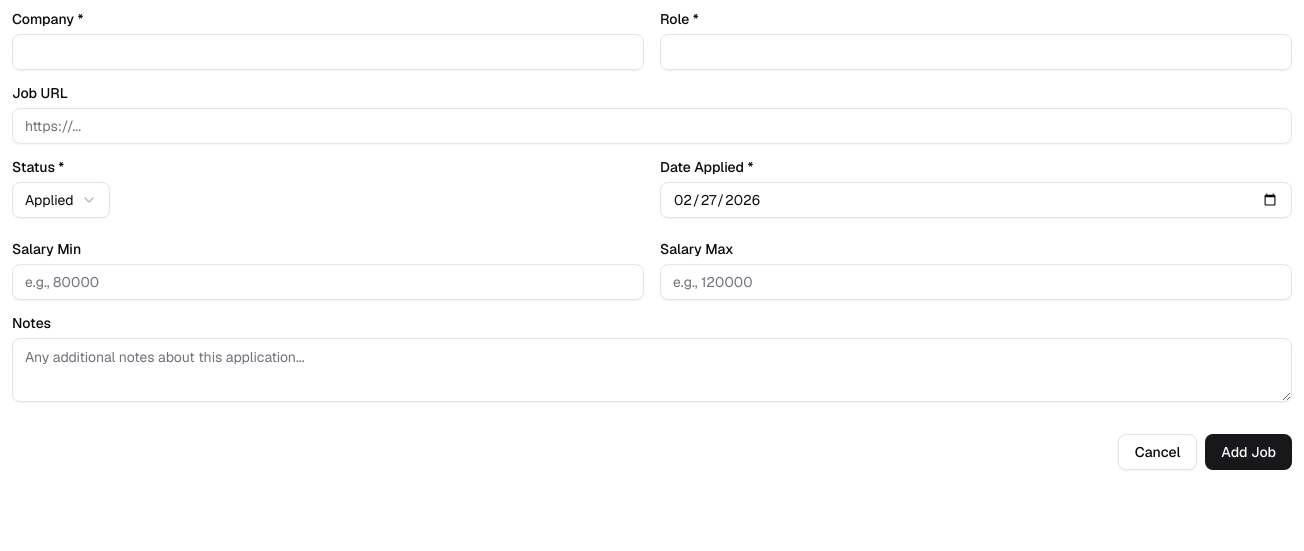
JobForm › should show URL and salary validation errors together
Type "not-a-url" into the field labelled "Job URL" at [652, 126], box x1=12 y1=108 x2=1292 y2=144
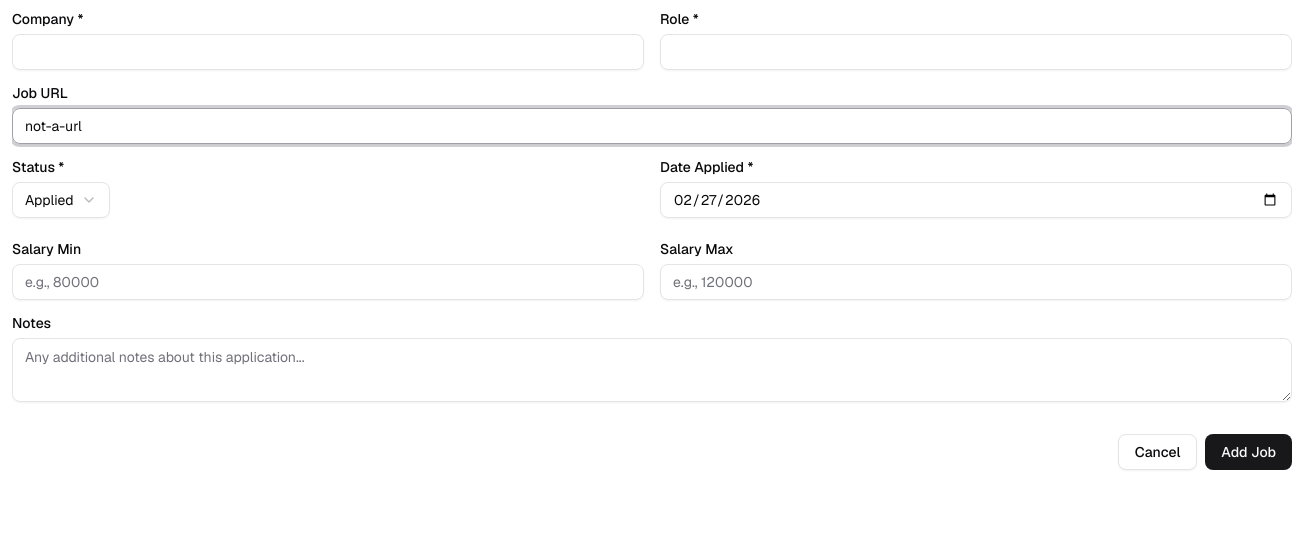
Type "200000" into the number field labelled "Salary Min" at [328, 282], box x1=12 y1=264 x2=644 y2=300
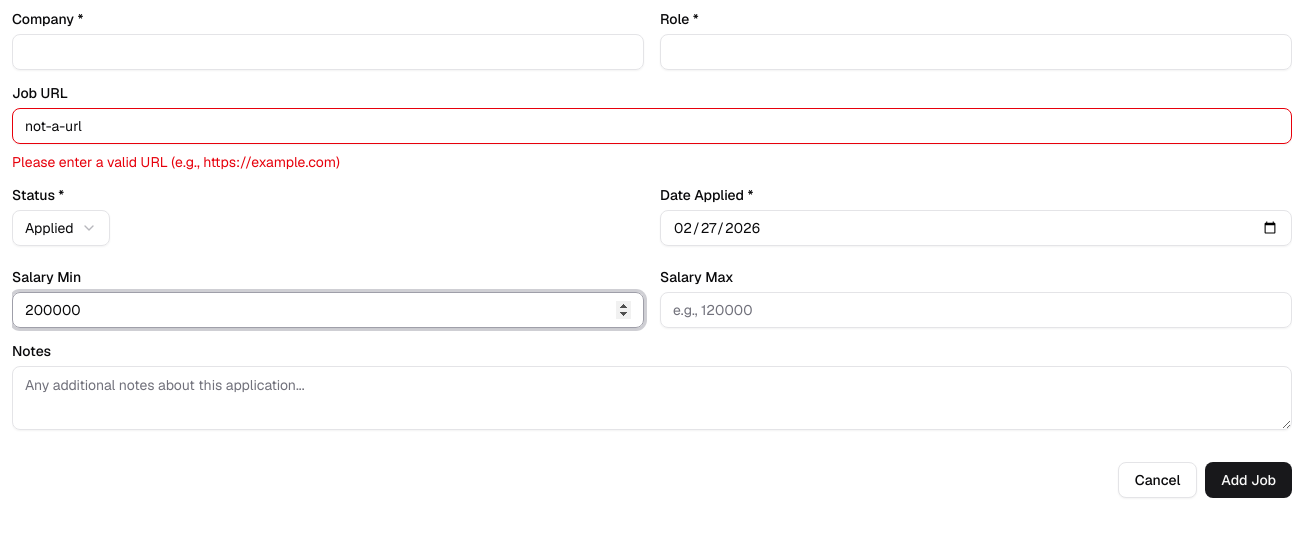
Type "100000" into the number field labelled "Salary Max" at [976, 310], box x1=660 y1=292 x2=1292 y2=328
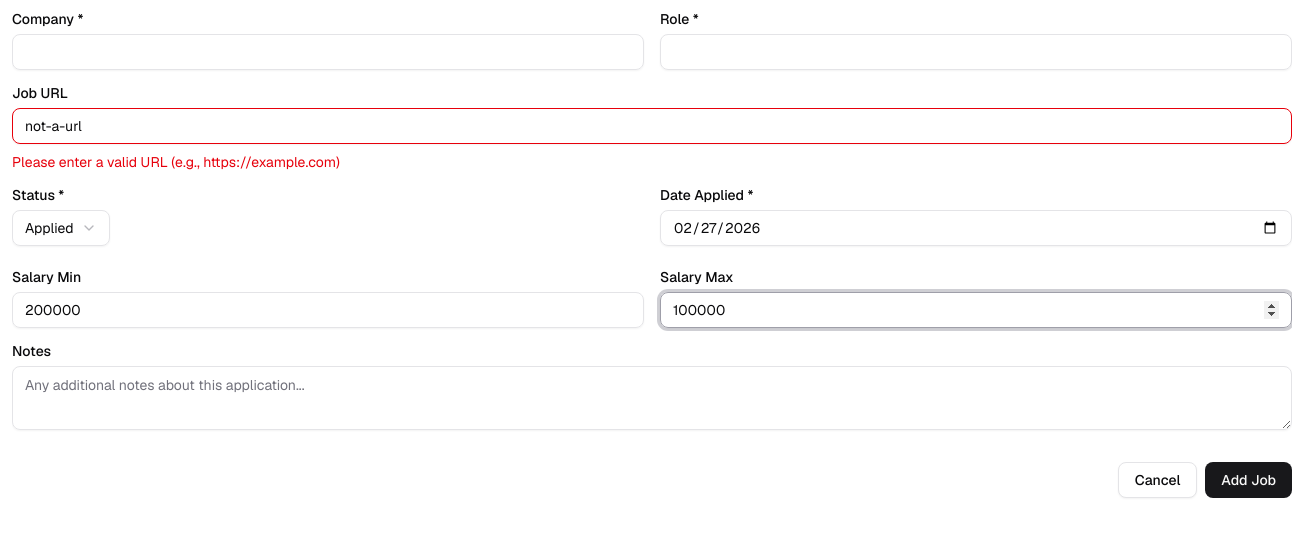
Click the button "Add Job" at [1249, 480], box x1=1205 y1=462 x2=1292 y2=498
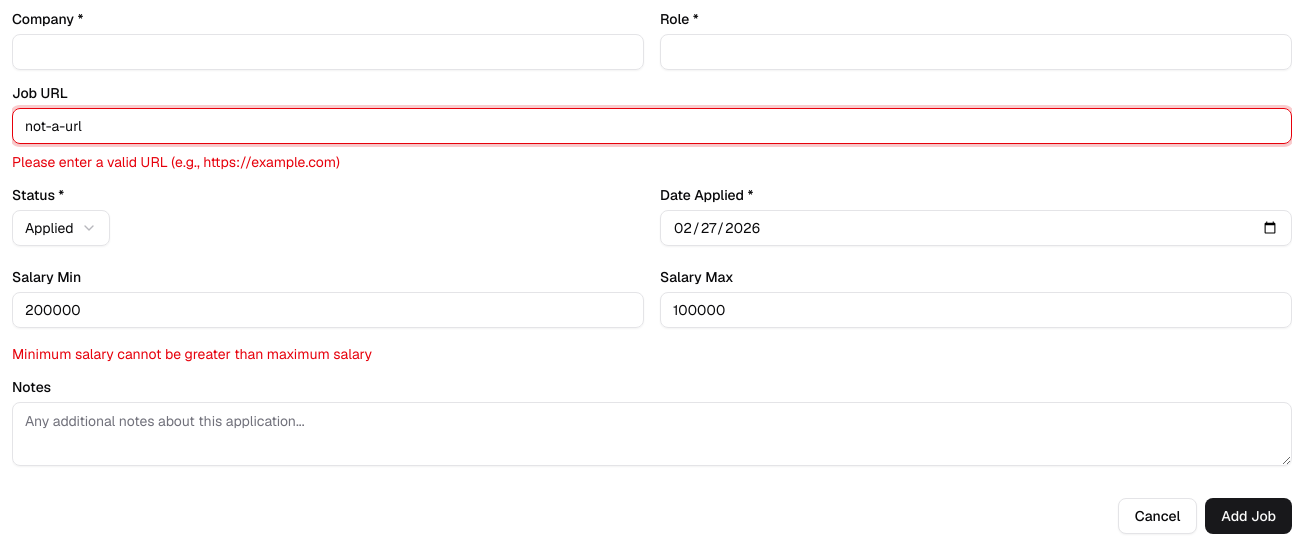
Expected: the text "Please enter a valid URL (e.g., https://example.com)" is shown, x1=12 y1=153 x2=340 y2=171
Expected: the text "Minimum salary cannot be greater than maximum salary" is shown, x1=12 y1=345 x2=372 y2=363
